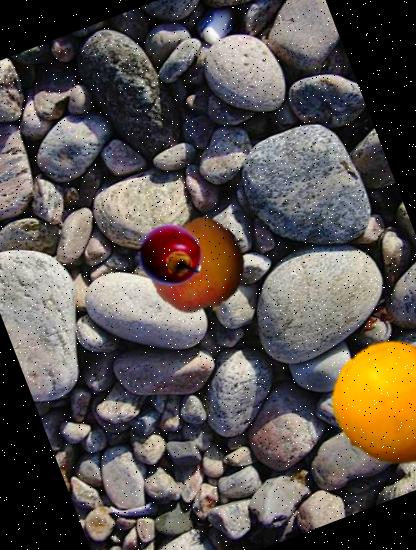Grapefruit: (314, 322, 416, 483)
Peach: (137, 206, 261, 330)
Tamarillo: (129, 214, 213, 298)
